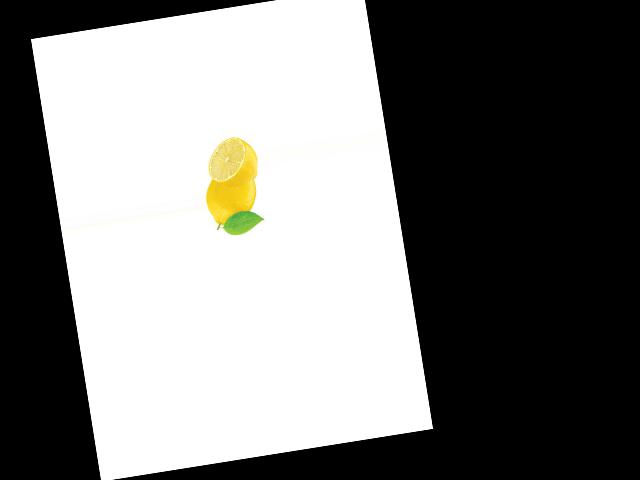lemon: (202, 171, 263, 232)
